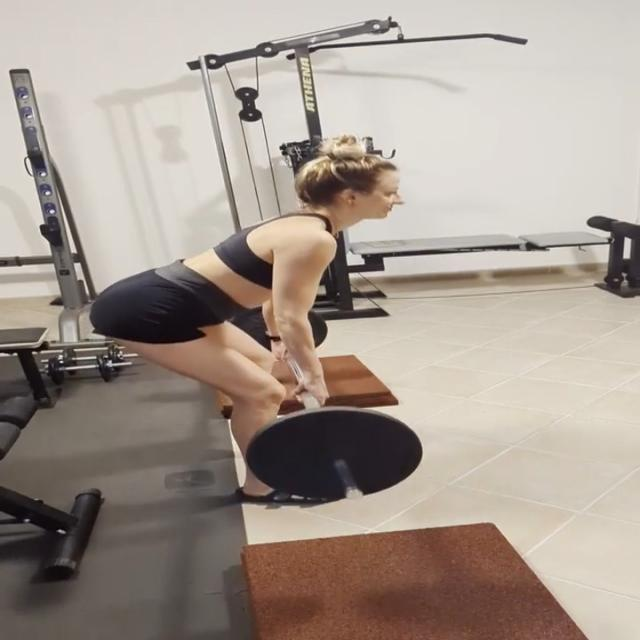barbell: (244, 405, 425, 508)
